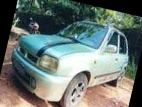car: (2, 4, 136, 107)
